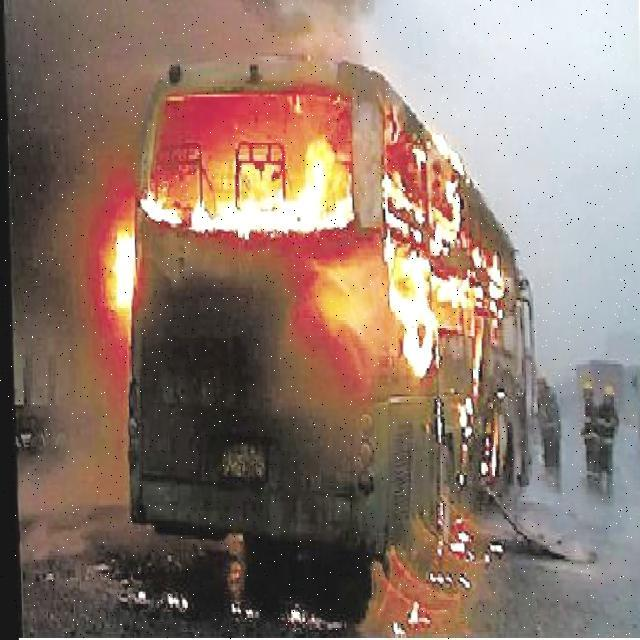Fire: (98, 72, 506, 422)
